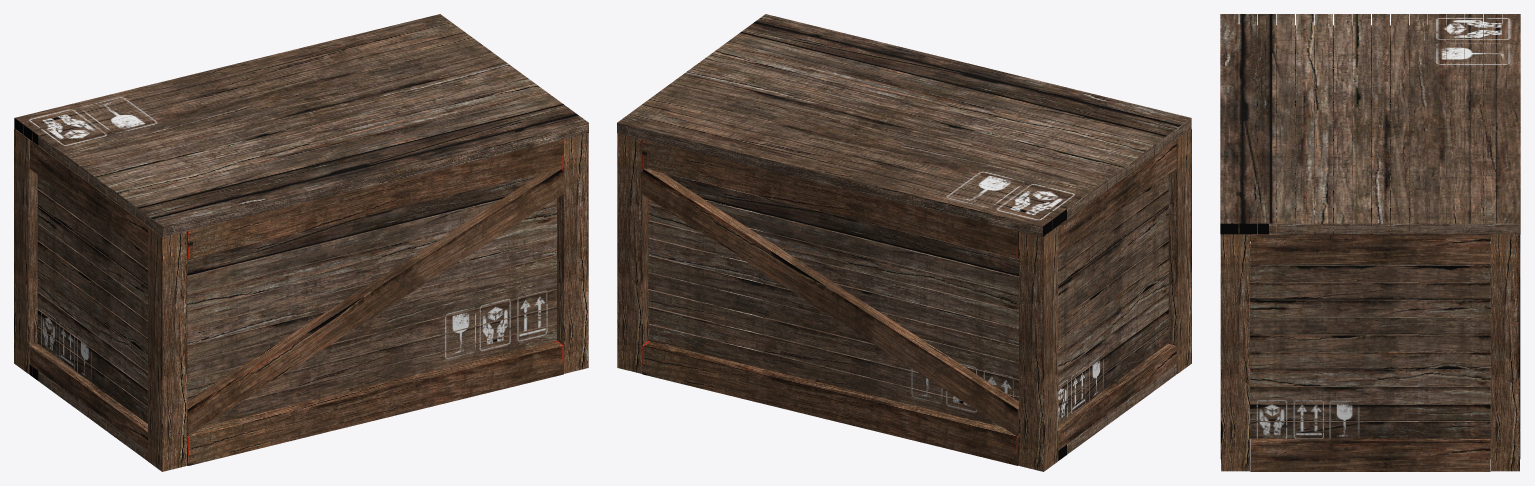
Rendered from WoodBox.obj.
The picture shows the model from 3 angles, left to right: view 1: azimuth 30°, elevation 25°; view 2: azimuth 150°, elevation 25°; view 3: azimuth 270°, elevation 25°; orthographic projection.
Visible parts, largest first — view 1: WoodenBox_WoodenBox_WoodenBox1, WoodenBox_WoodenBox_WoodenBox5, WoodenBox_WoodenBox_WoodenBox3, WoodenBox_WoodenBox_WoodenBox2, WoodenBox_WoodenBox_WoodenBox4, WoodenBox_WoodenBox_WoodenBox6; view 2: WoodenBox_WoodenBox_WoodenBox1, WoodenBox_WoodenBox_WoodenBox5, WoodenBox_WoodenBox_WoodenBox3, WoodenBox_WoodenBox_WoodenBox2, WoodenBox_WoodenBox_WoodenBox4, WoodenBox_WoodenBox_WoodenBox6; view 3: WoodenBox_WoodenBox_WoodenBox1, WoodenBox_WoodenBox_WoodenBox2, WoodenBox_WoodenBox_WoodenBox6, WoodenBox_WoodenBox_WoodenBox3, WoodenBox_WoodenBox_WoodenBox5.
Boxes of the visible parts, box(x1,y1,x2,y2) form: WoodenBox_WoodenBox_WoodenBox1: box(14, 14, 588, 460); WoodenBox_WoodenBox_WoodenBox5: box(187, 139, 563, 465); WoodenBox_WoodenBox_WoodenBox3: box(14, 128, 588, 471); WoodenBox_WoodenBox_WoodenBox2: box(37, 175, 147, 423); WoodenBox_WoodenBox_WoodenBox4: box(187, 168, 563, 436); WoodenBox_WoodenBox_WoodenBox6: box(29, 140, 147, 450); WoodenBox_WoodenBox_WoodenBox1: box(617, 14, 1191, 460); WoodenBox_WoodenBox_WoodenBox5: box(642, 139, 1018, 465); WoodenBox_WoodenBox_WoodenBox3: box(617, 128, 1191, 471); WoodenBox_WoodenBox_WoodenBox2: box(1058, 174, 1168, 423); WoodenBox_WoodenBox_WoodenBox4: box(642, 168, 1018, 436); WoodenBox_WoodenBox_WoodenBox6: box(1058, 140, 1176, 451); WoodenBox_WoodenBox_WoodenBox1: box(1220, 14, 1520, 471); WoodenBox_WoodenBox_WoodenBox2: box(1250, 66, 1490, 438); WoodenBox_WoodenBox_WoodenBox6: box(1250, 25, 1490, 471); WoodenBox_WoodenBox_WoodenBox3: box(1221, 24, 1519, 471); WoodenBox_WoodenBox_WoodenBox5: box(1220, 37, 1520, 458).
Size of the model in its own units: 3.37 by 1.85 by 2.03.
6 materials, 6 textured.
